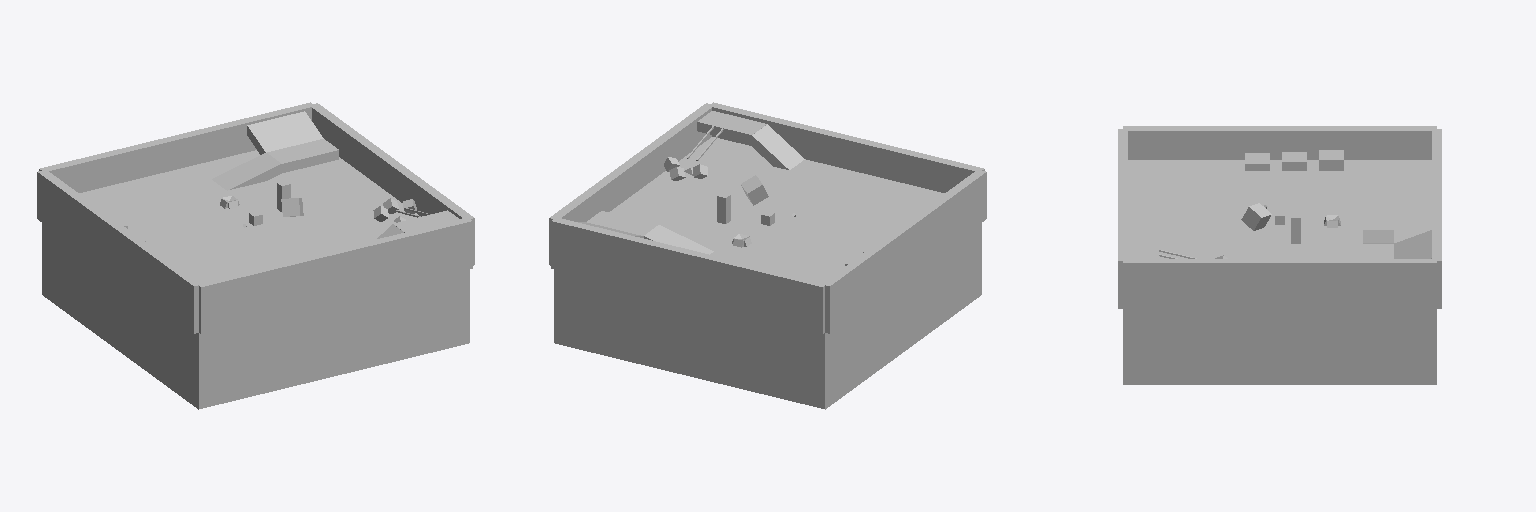
3 views of the same model, side by side, from view 1: azimuth 30°, elevation 25°; view 2: azimuth 150°, elevation 25°; view 3: azimuth 270°, elevation 25° (orthographic).
Visible parts, largest first — view 1: Container.002_Cube.001, Container.013_Cube.012, Container.011_Cube.010, Container.012_Cube.011, Container.010_Cube.009, Container.019_Cube.020, Container.007_Cube.018, Container.018_Cube.019, Container.021_Cube.021; view 2: Container.002_Cube.001, Container.012_Cube.011, Container.011_Cube.010, Container.013_Cube.012, Container.010_Cube.009, Container.020_Cube.008, Container.021_Cube.021, Container.018_Cube.019, Container.007_Cube.018; view 3: Container.002_Cube.001, Container.010_Cube.009, Container.011_Cube.010, Container.013_Cube.012, Container.012_Cube.011, Container.019_Cube.020, Container.021_Cube.021, Container.004_Cube.004, Container.014_Cube.013.
Part boxes in pixels (x1,y1,x2,y2): Container.002_Cube.001: (42, 150, 469, 409); Container.013_Cube.012: (199, 218, 472, 334); Container.011_Cube.010: (37, 170, 201, 333); Container.012_Cube.011: (39, 102, 311, 192); Container.010_Cube.009: (309, 103, 474, 265); Container.019_Cube.020: (247, 111, 323, 154); Container.007_Cube.018: (212, 153, 283, 190); Container.018_Cube.019: (267, 139, 338, 172); Container.021_Cube.021: (394, 210, 458, 232); Container.002_Cube.001: (554, 137, 981, 409); Container.012_Cube.011: (551, 218, 827, 334); Container.011_Cube.010: (822, 171, 986, 333); Container.013_Cube.012: (712, 102, 984, 192); Container.010_Cube.009: (549, 103, 714, 265); Container.020_Cube.008: (747, 124, 804, 169); Container.021_Cube.021: (697, 111, 766, 144); Container.018_Cube.019: (587, 211, 657, 235); Container.007_Cube.018: (644, 225, 713, 254); Container.002_Cube.001: (1123, 160, 1436, 384); Container.010_Cube.009: (1123, 259, 1436, 310); Container.011_Cube.010: (1123, 126, 1436, 159); Container.013_Cube.012: (1118, 129, 1127, 308); Container.012_Cube.011: (1432, 129, 1441, 308); Container.019_Cube.020: (1394, 230, 1431, 258); Container.021_Cube.021: (1128, 235, 1158, 258); Container.004_Cube.004: (1241, 203, 1271, 230); Container.014_Cube.013: (1319, 150, 1343, 170).
Size of the model in its own units: 31 by 13.29 by 31.